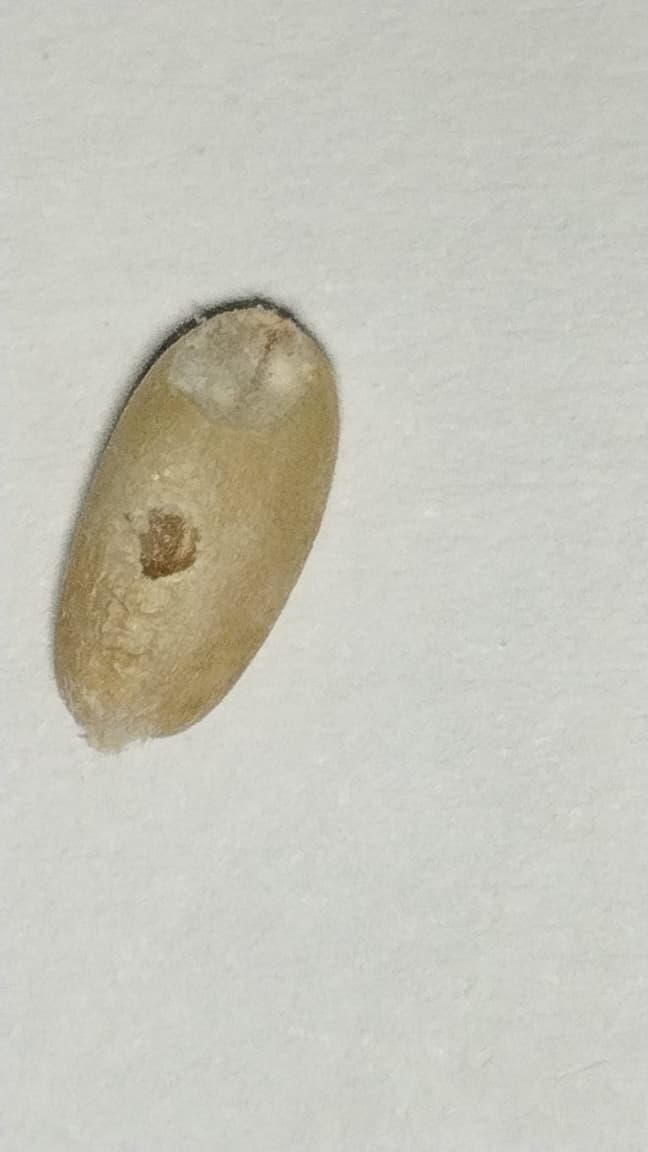damage: (56, 306, 338, 742)
insectdamage: (115, 455, 253, 616), (169, 320, 302, 426)
